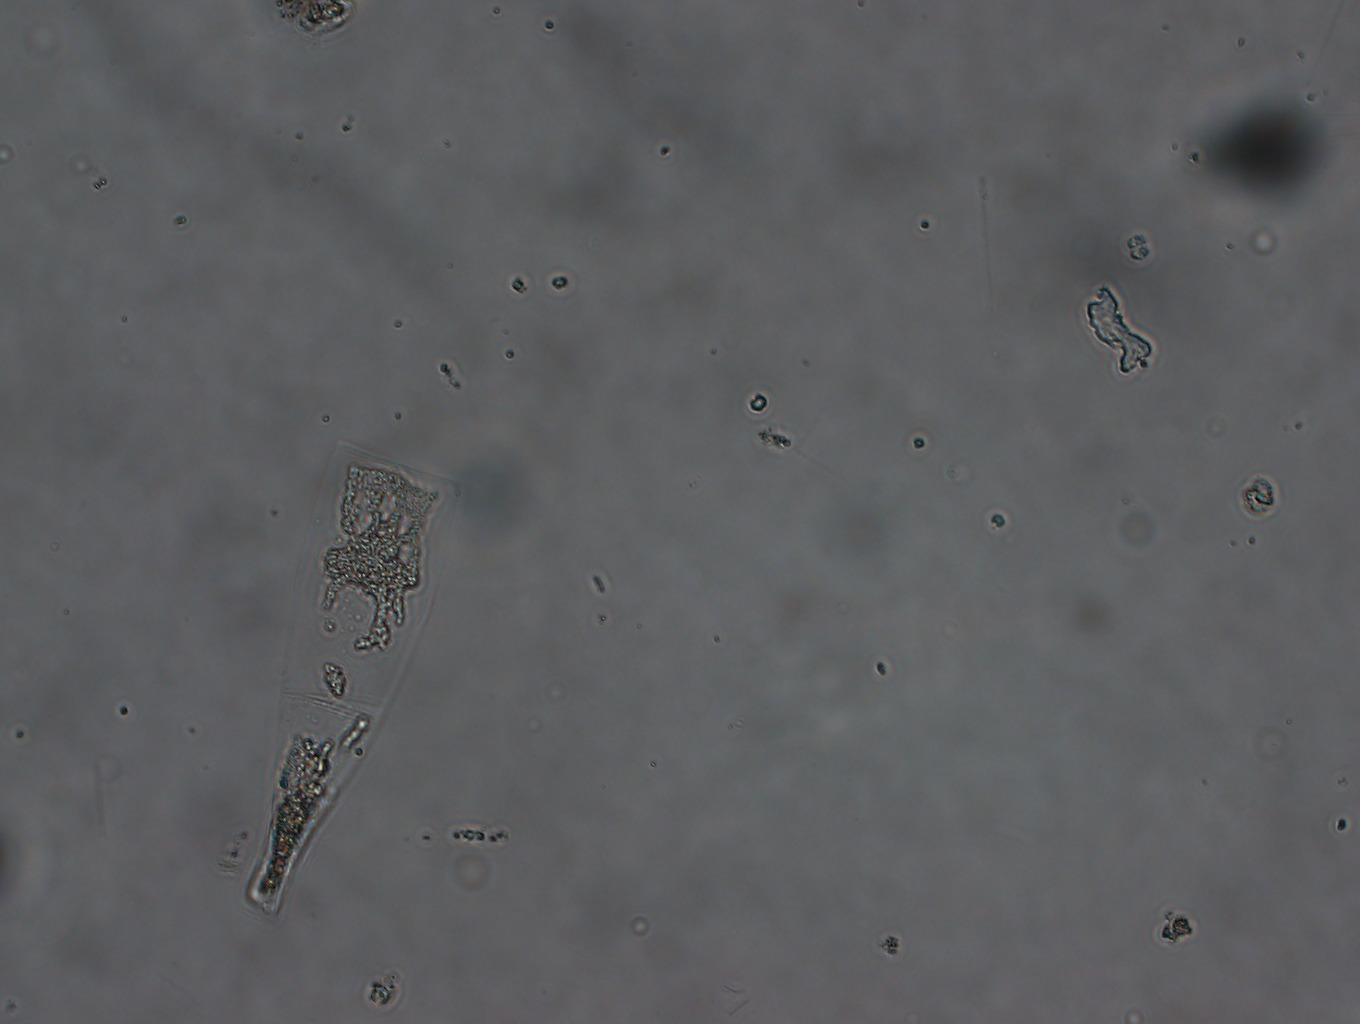helicotheca: (216, 406, 467, 919)
